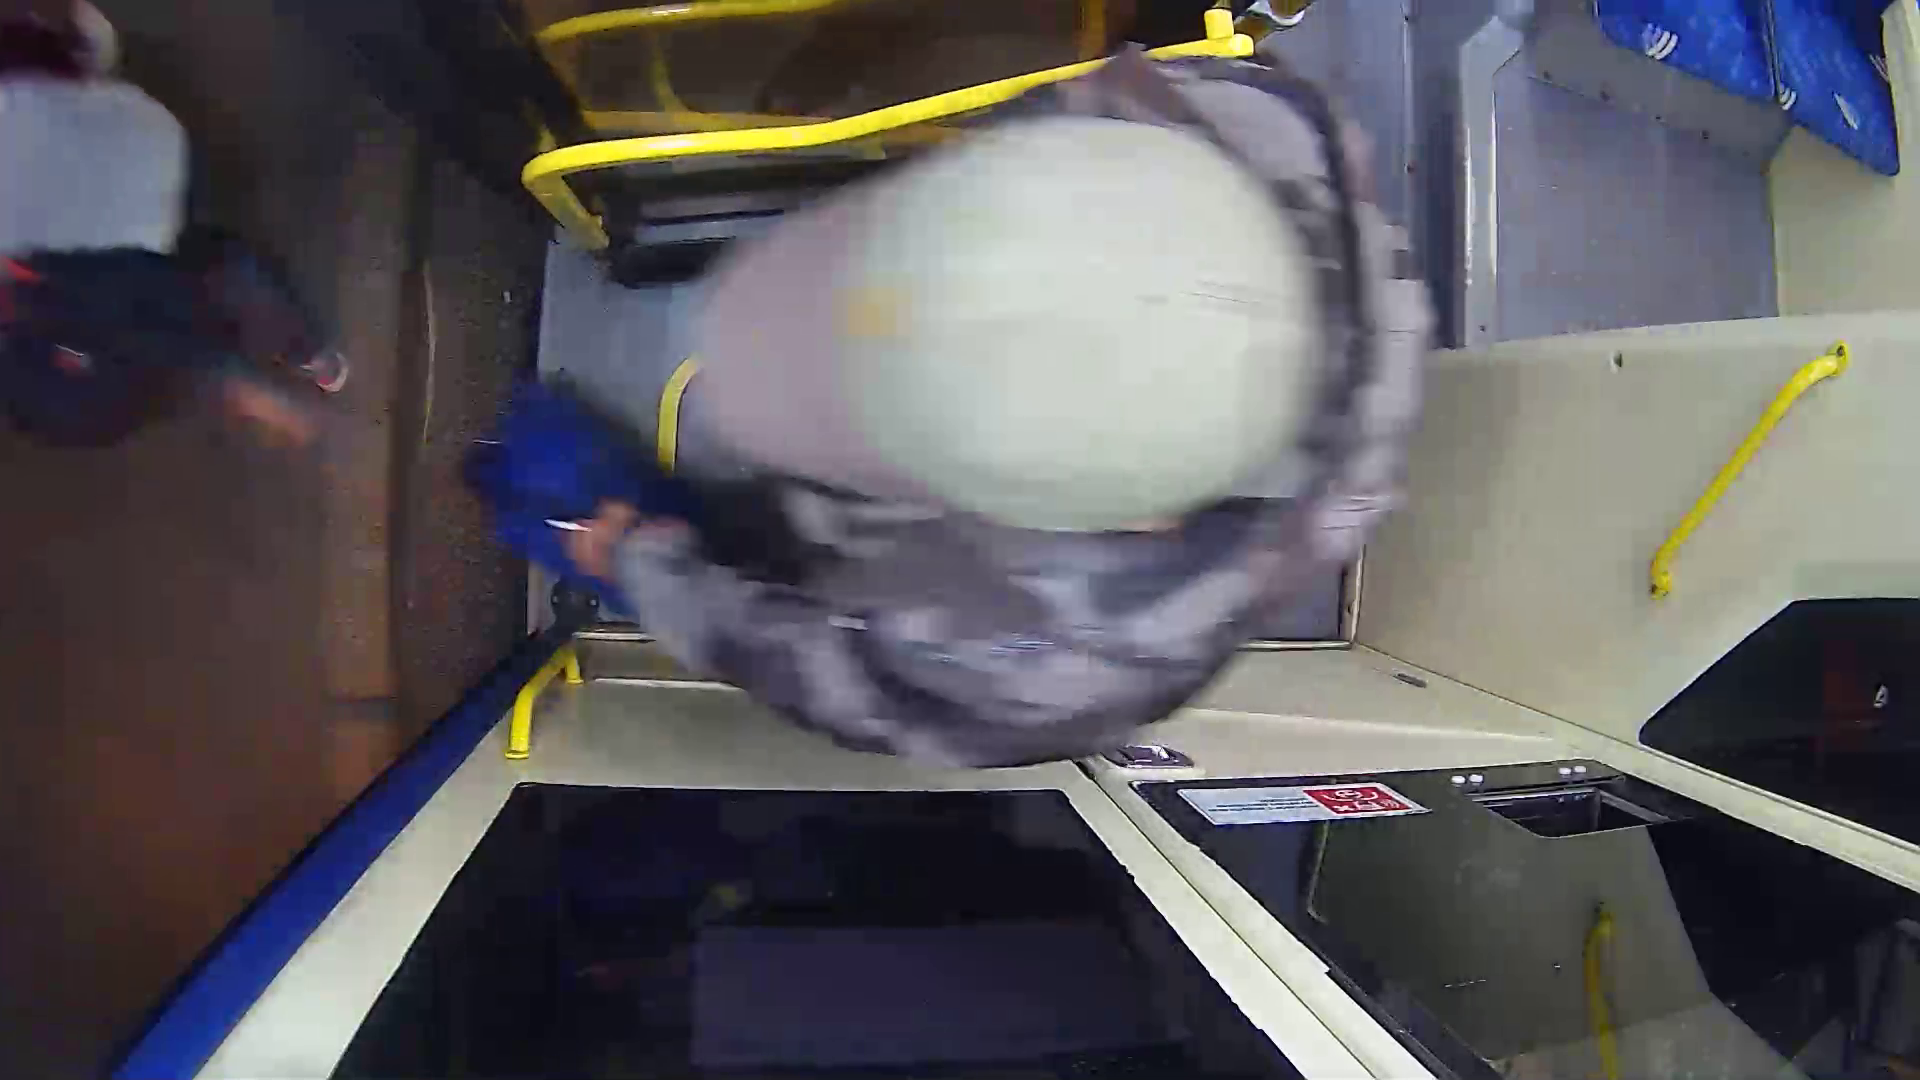person: (652, 100, 1423, 754)
